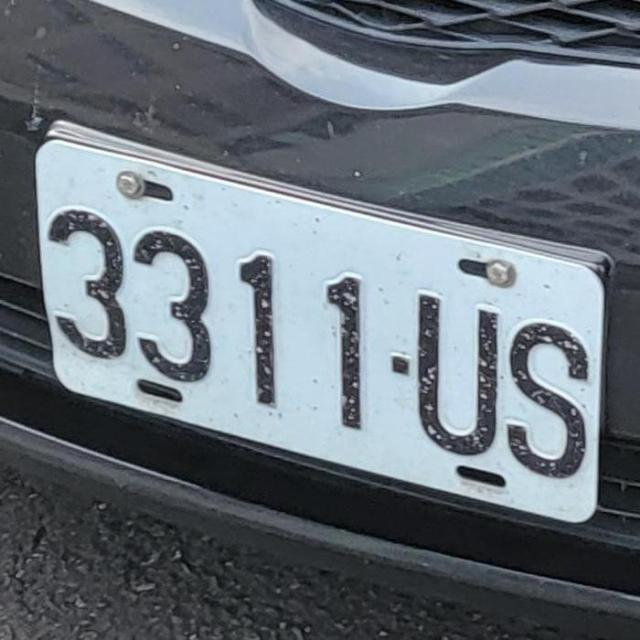W: (18, 123, 599, 528)
